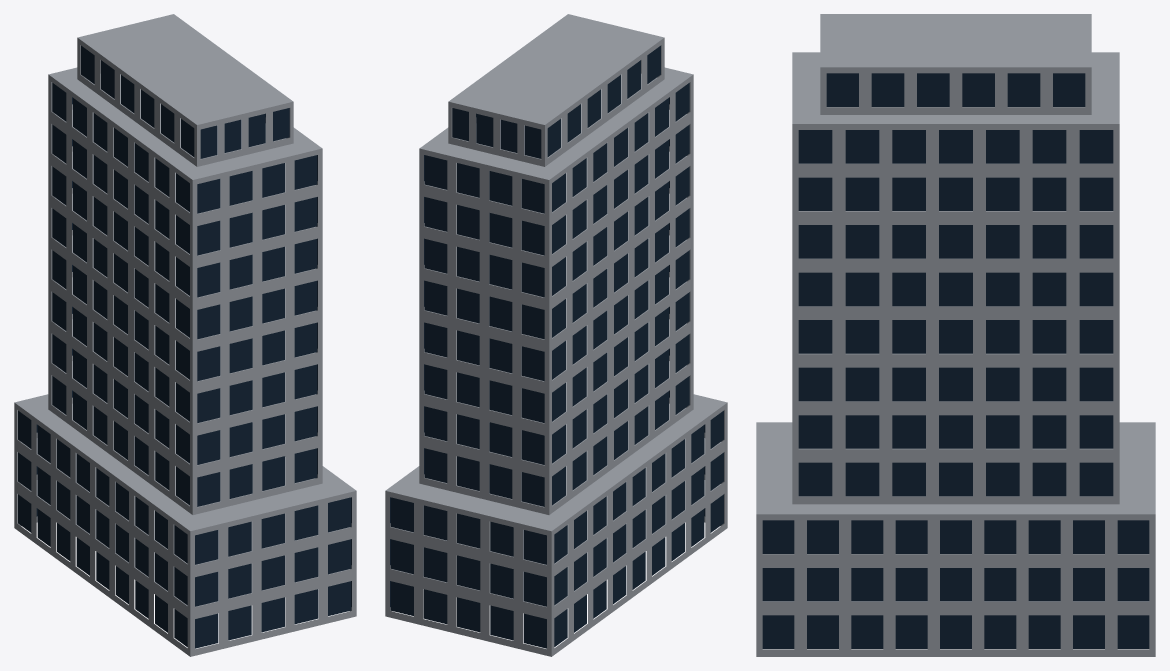
The model's file is Residential Buildings 004.obj.
The picture shows the model from 3 angles, left to right: view 1: azimuth 30°, elevation 25°; view 2: azimuth 150°, elevation 25°; view 3: azimuth 270°, elevation 25°; orthographic projection. The views are drawn at different scales.
Parts seen in each view (by area): view 1: Residential; view 2: Residential; view 3: Residential.
Part boxes in pixels (x1,y1,x2,y2): Residential: (14, 14, 356, 656); Residential: (385, 14, 727, 656); Residential: (756, 14, 1155, 656).
Size of the model in its own units: 12.59 by 36.39 by 23.1.
